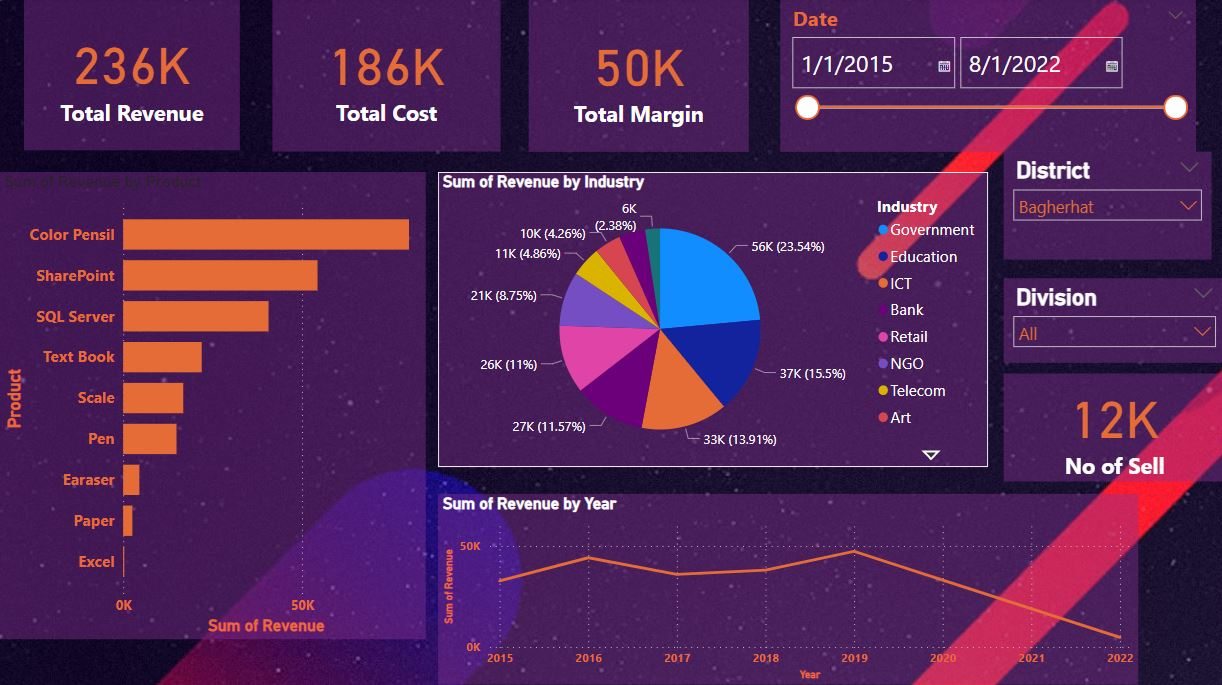

The page's visual inventory and layout, read from the dashboard file:
{"tool":"powerbi","page":{"name":"Page 1","canvas":[1280,720],"ordinal":0},"visuals":[{"type":"card","fields":{"Values":["Sum(Data.Revenue)"]},"box":[26.1,0,225.1,159.8],"z":0},{"type":"card","fields":{"Values":["Sum(Data.Total Cost)"]},"box":[285.4,0,238.1,161.5],"z":1000},{"type":"card","fields":{"Values":["Sum(Data.Margin)"]},"box":[552.9,1.6,230,159.8],"z":2000},{"type":"slicer","fields":{"Values":["Data.Date"]},"box":[815.5,1.6,433.8,159.8],"z":3000},{"type":"barChart","fields":{"Category":["Data.Product"],"Y":["Sum(Data.Revenue)"]},"box":[0,182.7,445.2,487.6],"z":4000},{"type":"pieChart","fields":{"Category":["Customer.Industry"],"Y":["Sum(Data.Revenue)"]},"box":[458.3,182.7,574.1,308.2],"z":5000},{"type":"slicer","fields":{"Values":["Sheet3.District"]},"box":[1048.7,161.5,216.9,112.5],"z":6000},{"type":"slicer","fields":{"Values":["Postal.Division"]},"box":[1048.7,293.6,231.6,88.1],"z":7000},{"type":"lineChart","fields":{"Y":["Sum(Data.Revenue)"],"Category":["Data.Year"]},"box":[458.3,518.6,730.7,199],"z":8000},{"type":"card","fields":{"Values":["Sum(Data.Qty)"]},"box":[1048.7,393.1,231.6,112.5],"z":9000}]}

Visuals, with their boxes in screenshot pixels (x1, y1, x2, y2), scaled from the page's 1280x720 canvas onto the 1222x685 screenshot:
card - Sum(Data.Revenue): pyautogui.locateOnScreen(25, 0, 240, 152)
card - Sum(Data.Total Cost): pyautogui.locateOnScreen(272, 0, 500, 154)
card - Sum(Data.Margin): pyautogui.locateOnScreen(528, 2, 747, 154)
slicer - Data.Date: pyautogui.locateOnScreen(779, 2, 1193, 154)
barChart - Data.Product x Sum(Data.Revenue): pyautogui.locateOnScreen(0, 174, 425, 638)
pieChart - Customer.Industry x Sum(Data.Revenue): pyautogui.locateOnScreen(438, 174, 986, 467)
slicer - Sheet3.District: pyautogui.locateOnScreen(1001, 154, 1208, 261)
slicer - Postal.Division: pyautogui.locateOnScreen(1001, 279, 1221, 363)
lineChart - Sum(Data.Revenue) x Data.Year: pyautogui.locateOnScreen(438, 493, 1135, 683)
card - Sum(Data.Qty): pyautogui.locateOnScreen(1001, 374, 1221, 481)
